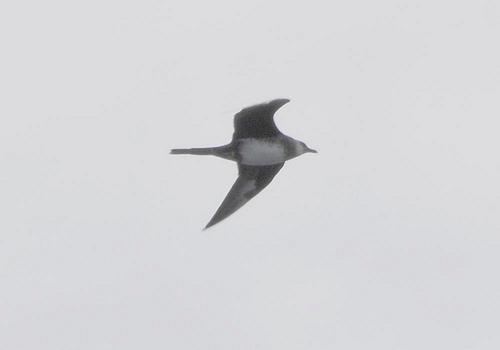bird: (169, 98, 317, 233)
